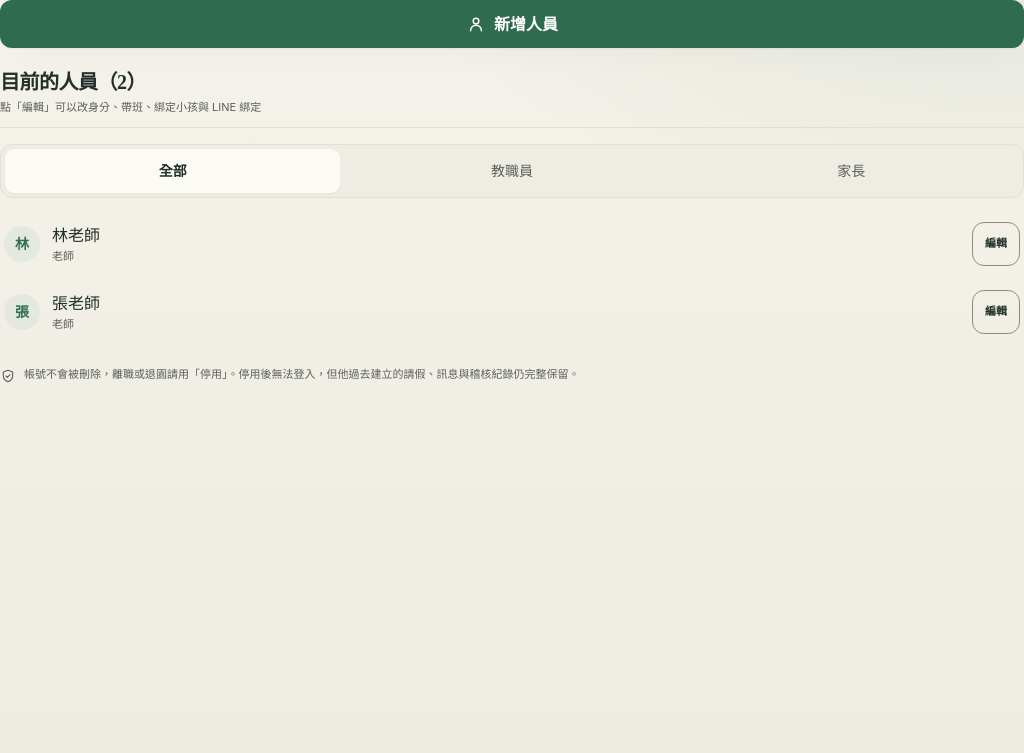
Scenario: 人員管理的編輯面板 › 再點同一個人的編輯就關掉面板
Step 1. Click the button with aria-label "編輯 林老師" → (996,244), box [972,222,1020,266]
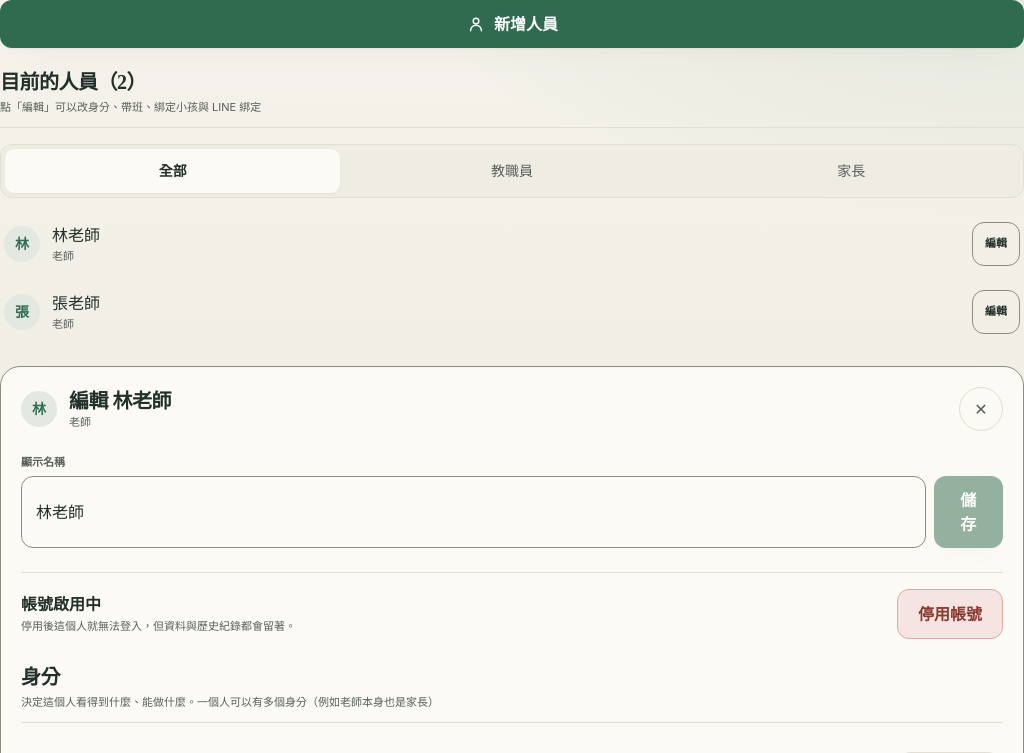
Step 2. Click the button with aria-label "編輯 林老師" → (996,244), box [972,222,1020,266]
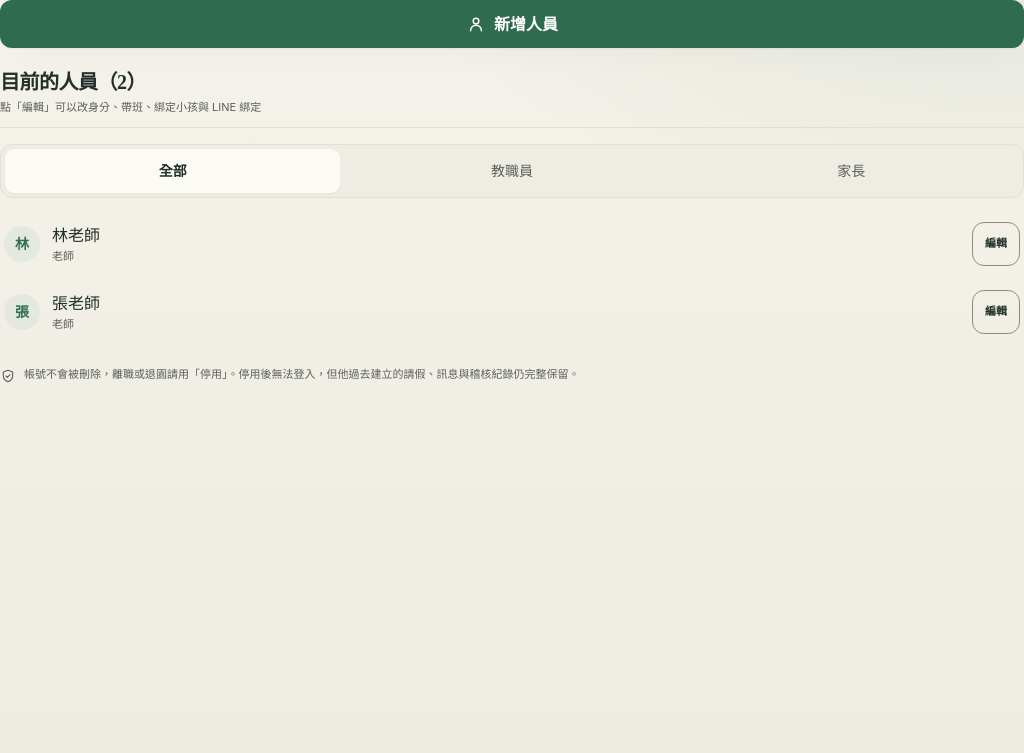
Result: the text "編輯 林老師" is gone
